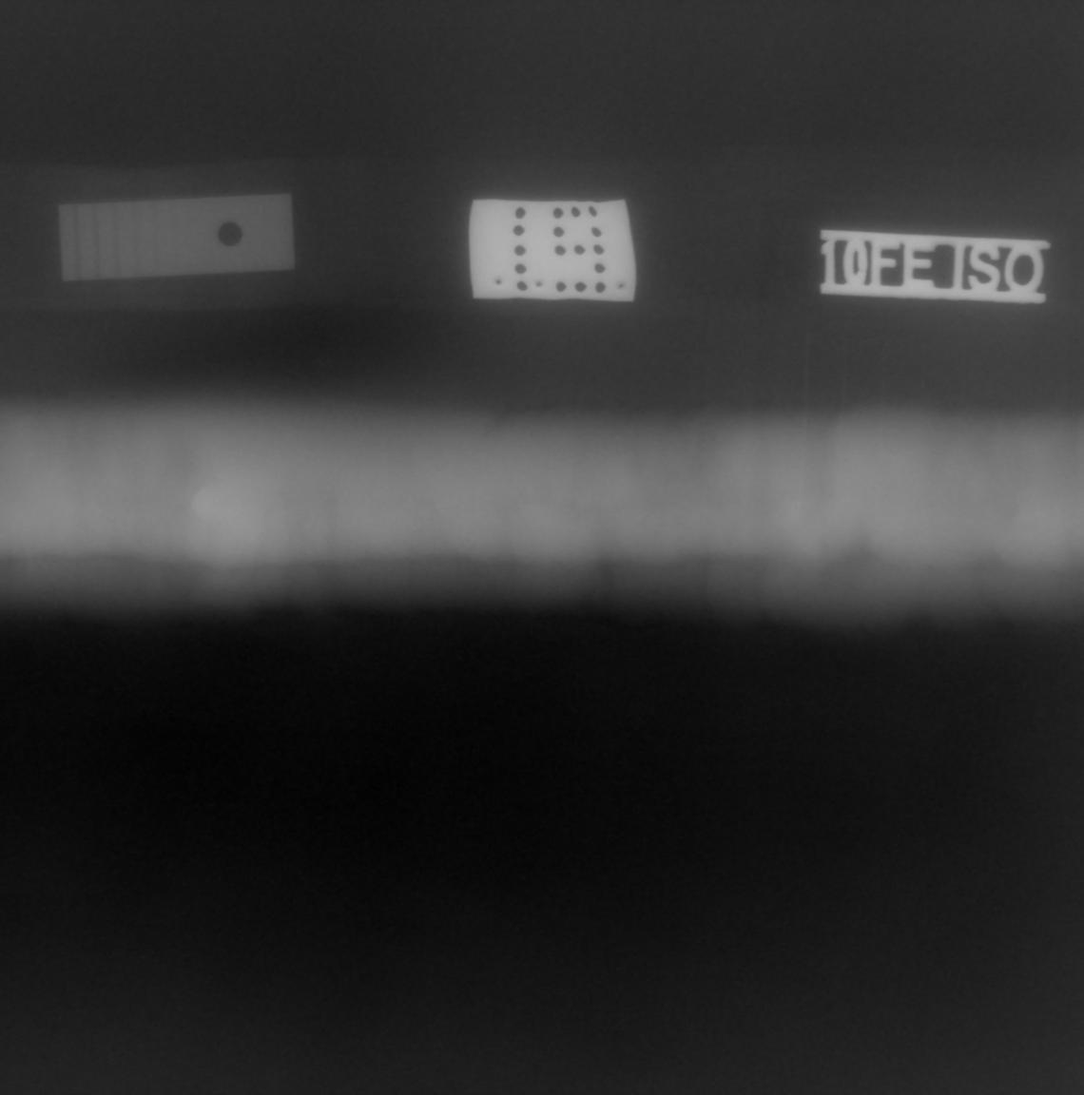Reference Standard 1: (58, 192, 294, 282)
